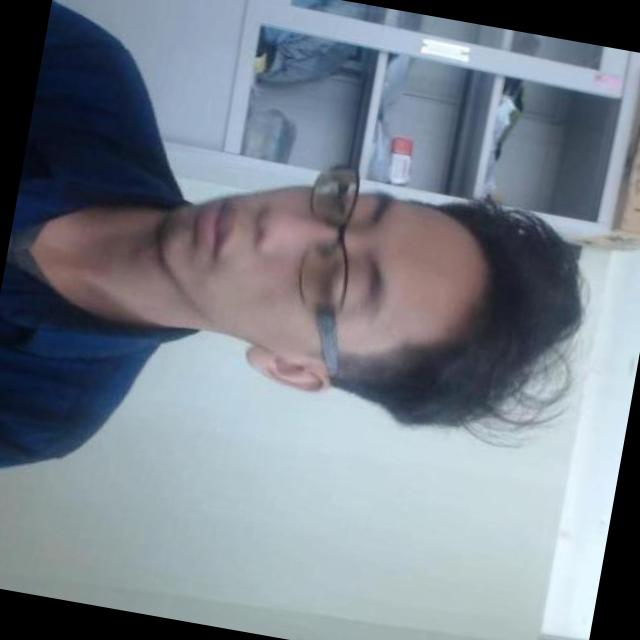bareface: (90, 88, 582, 501)
